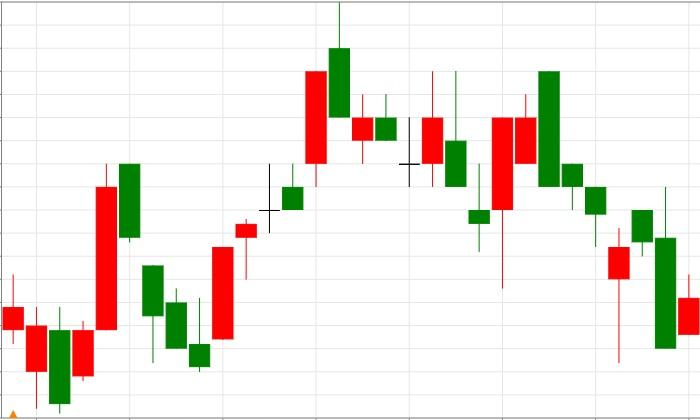inverse_hammer_rise: (119, 164, 210, 372)
morning_star_rise: (329, 3, 514, 289)
